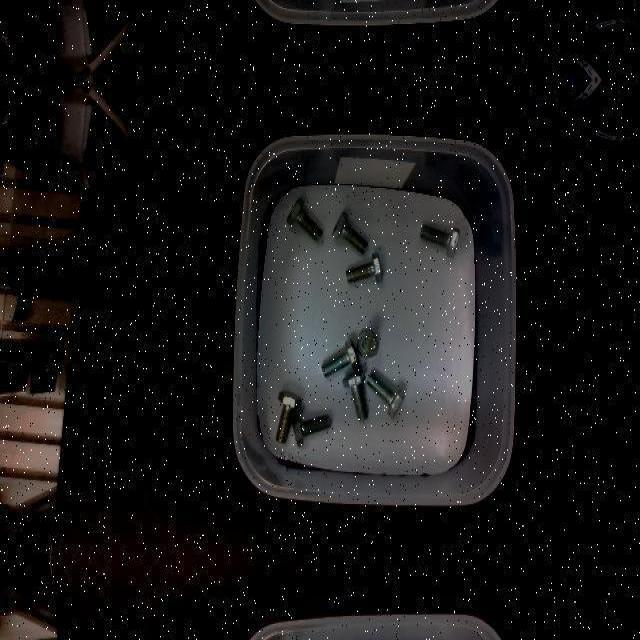screw: (367, 372, 406, 418), (287, 197, 323, 241), (333, 210, 368, 254), (321, 338, 360, 376), (420, 223, 460, 257), (291, 413, 331, 447), (342, 370, 368, 422), (277, 389, 302, 443), (345, 253, 383, 283), (357, 329, 380, 359)
